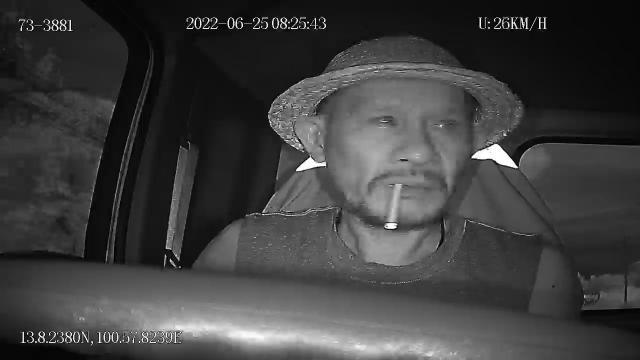SafeDriving: (365, 108, 405, 132), (423, 112, 462, 134)
Smoking: (386, 178, 406, 231)
